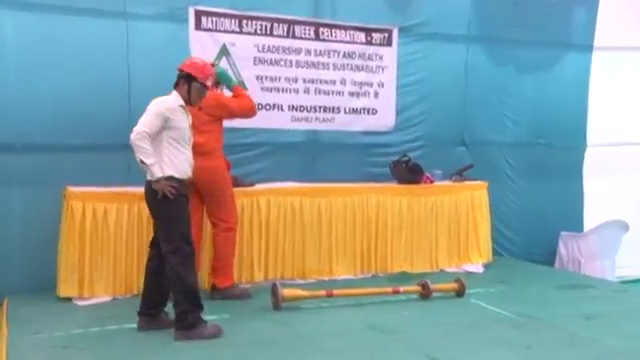helmet: (177, 56, 215, 89)
helmet_on: (176, 55, 216, 106)
person: (131, 55, 225, 342), (175, 53, 255, 303)
